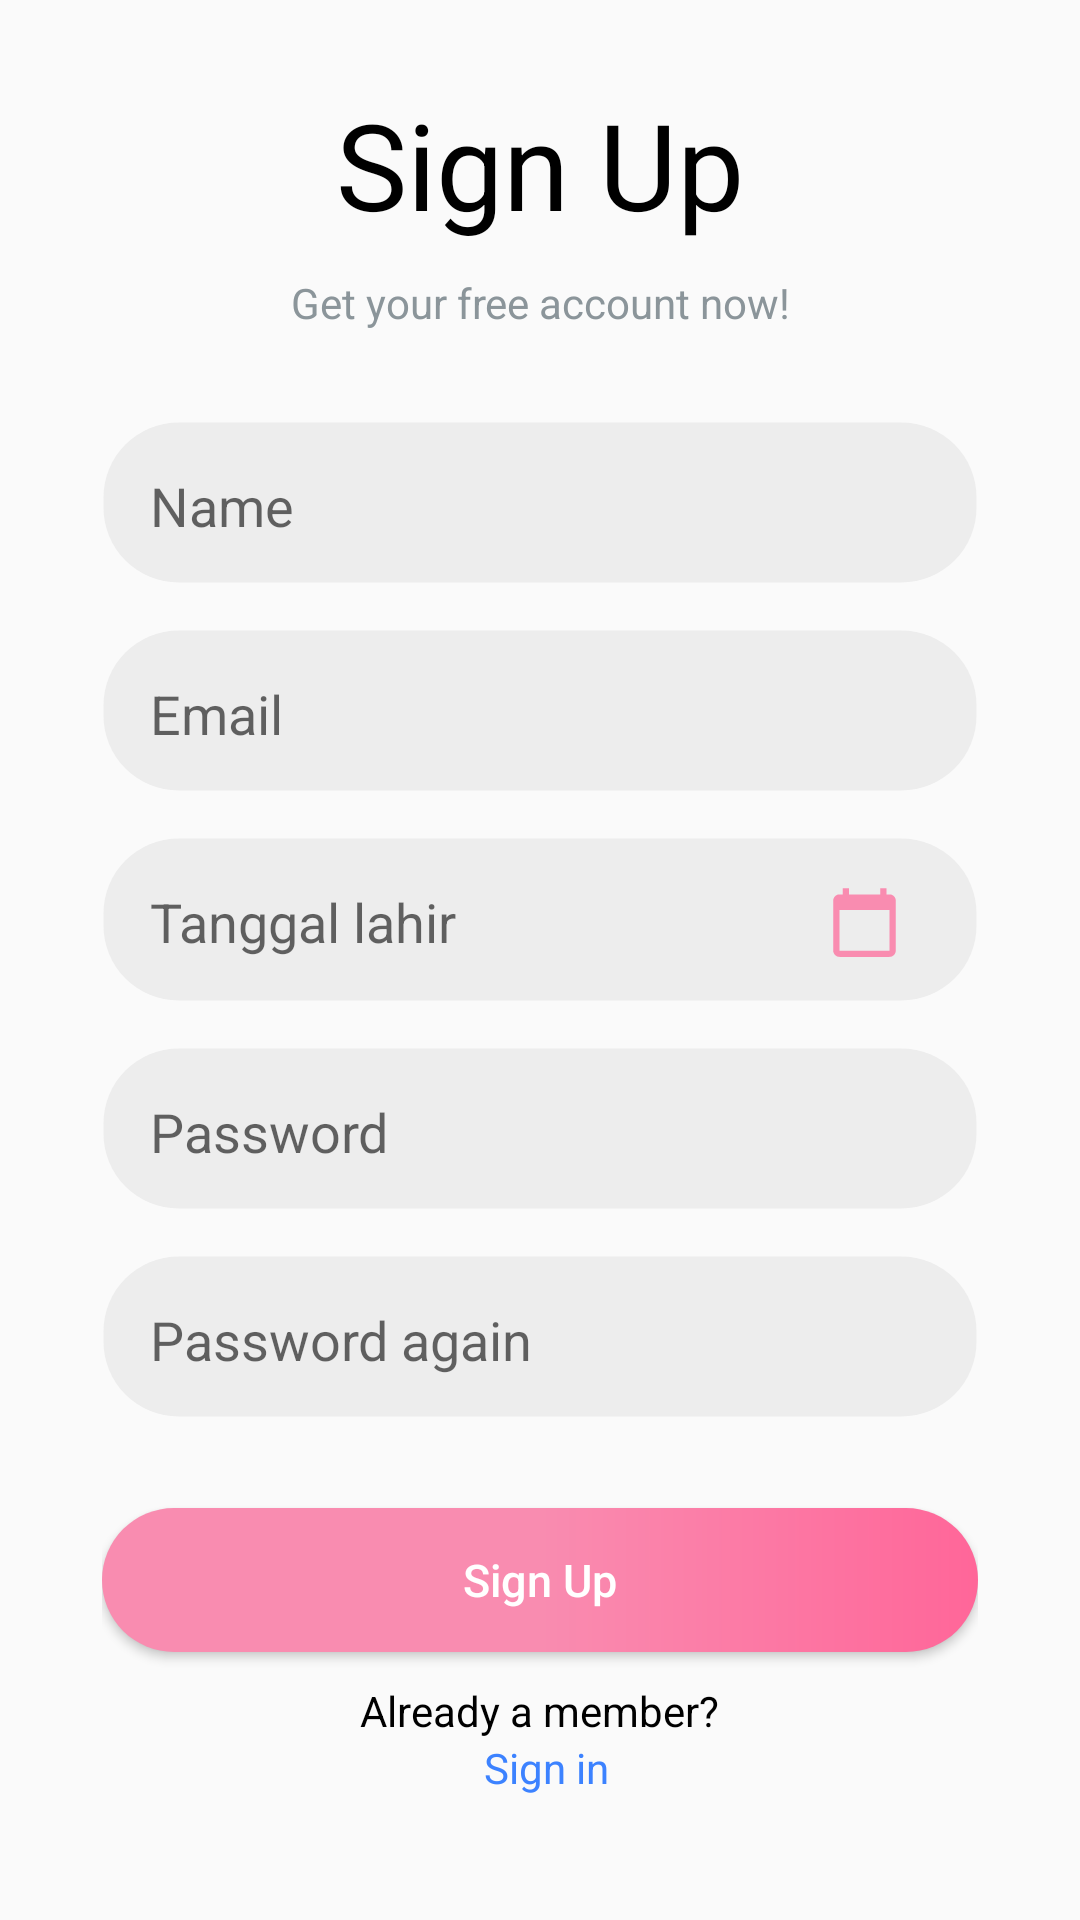

Icon bounding boxes for this 1080×1920 phone screenshot, format (x1, y1, x2, y2):
calendar: (833, 888, 896, 957)
